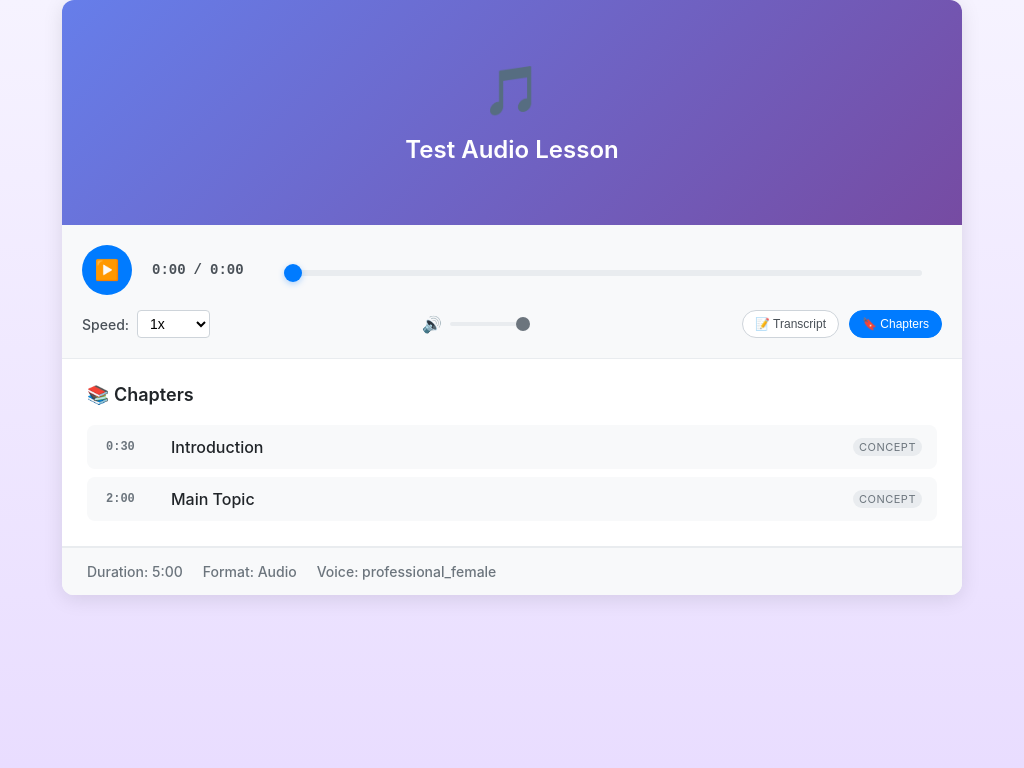
MultimediaPlayer › Chapters Toggle › should toggle chapters visibility
What coordinates should you click on to do the following:
click the button "🔖 Chapters"
I would click on:
 (896, 324)
Its box is 849,310 -> 942,338.
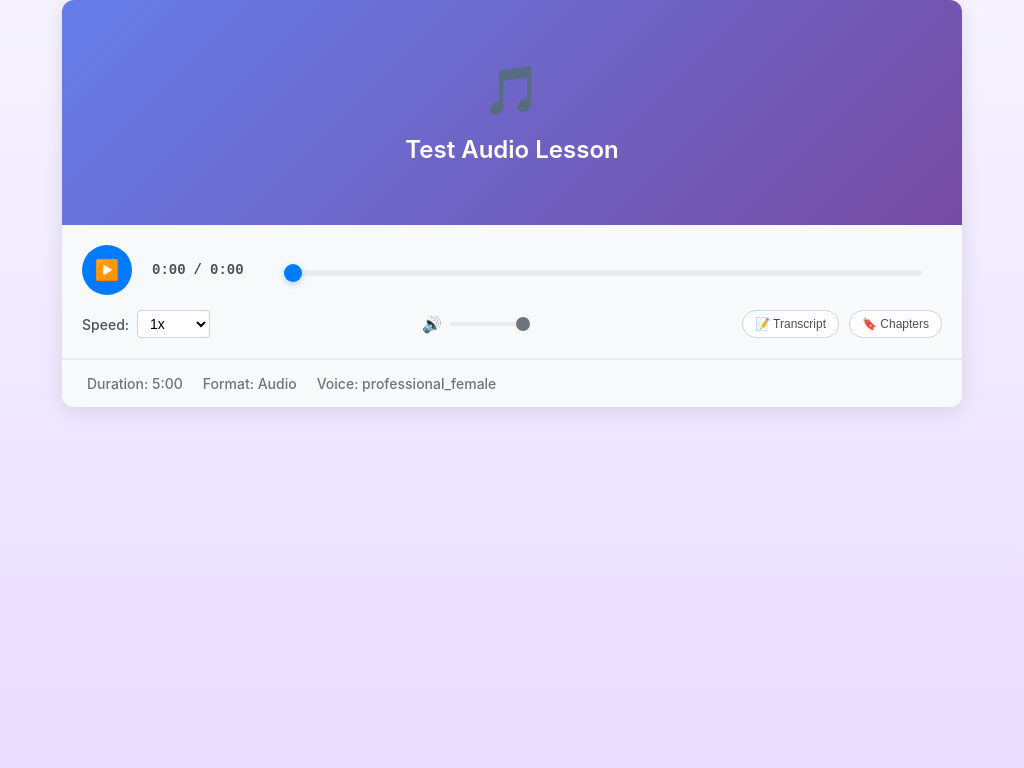
Expected: the heading "📚 Chapters" is gone
# Click again to show
What coordinates should you click on to do the following:
click the button "🔖 Chapters"
I would click on:
 (896, 324)
Its box is 849,310 -> 942,338.
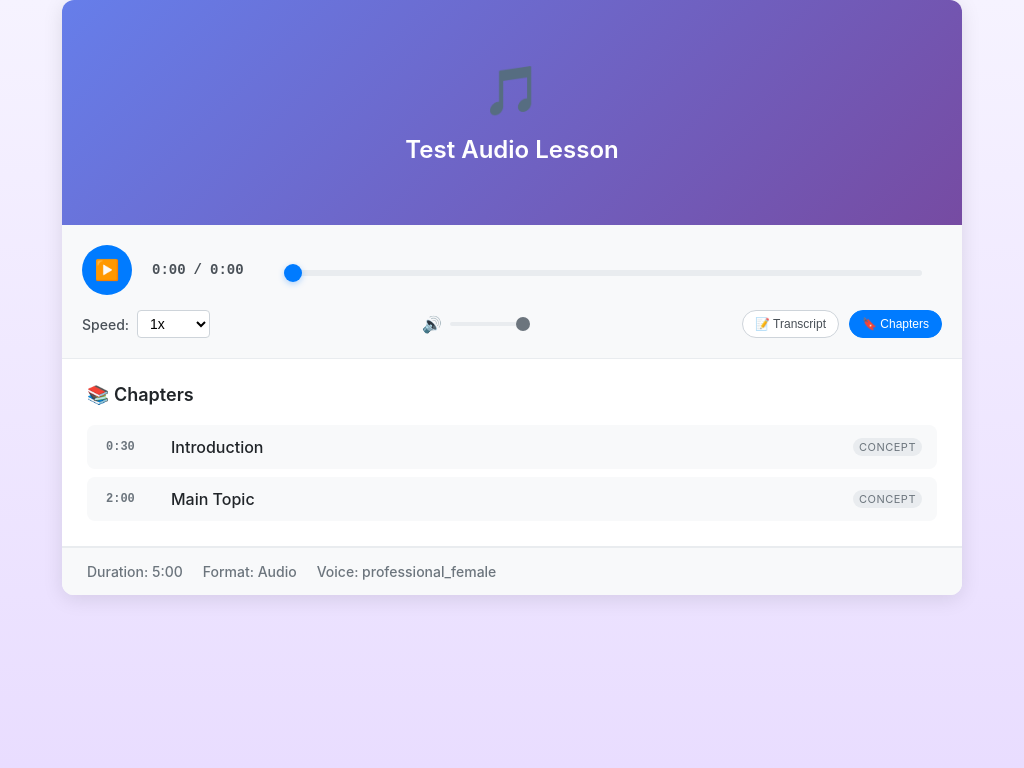
Expected: the heading "📚 Chapters" is shown, 87,384 -> 194,405
